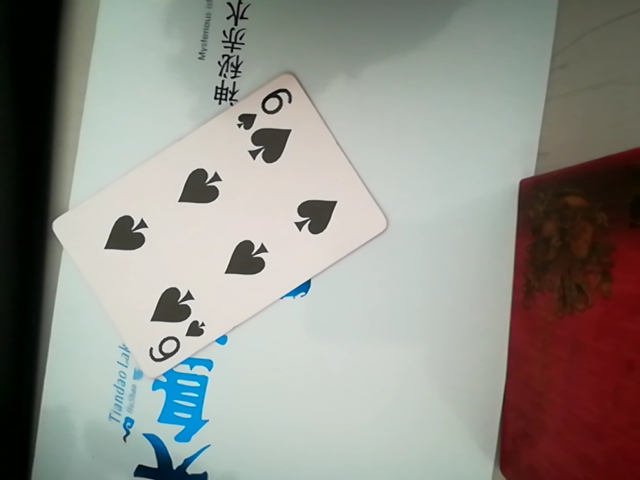ht 6: (58, 71, 393, 370)
